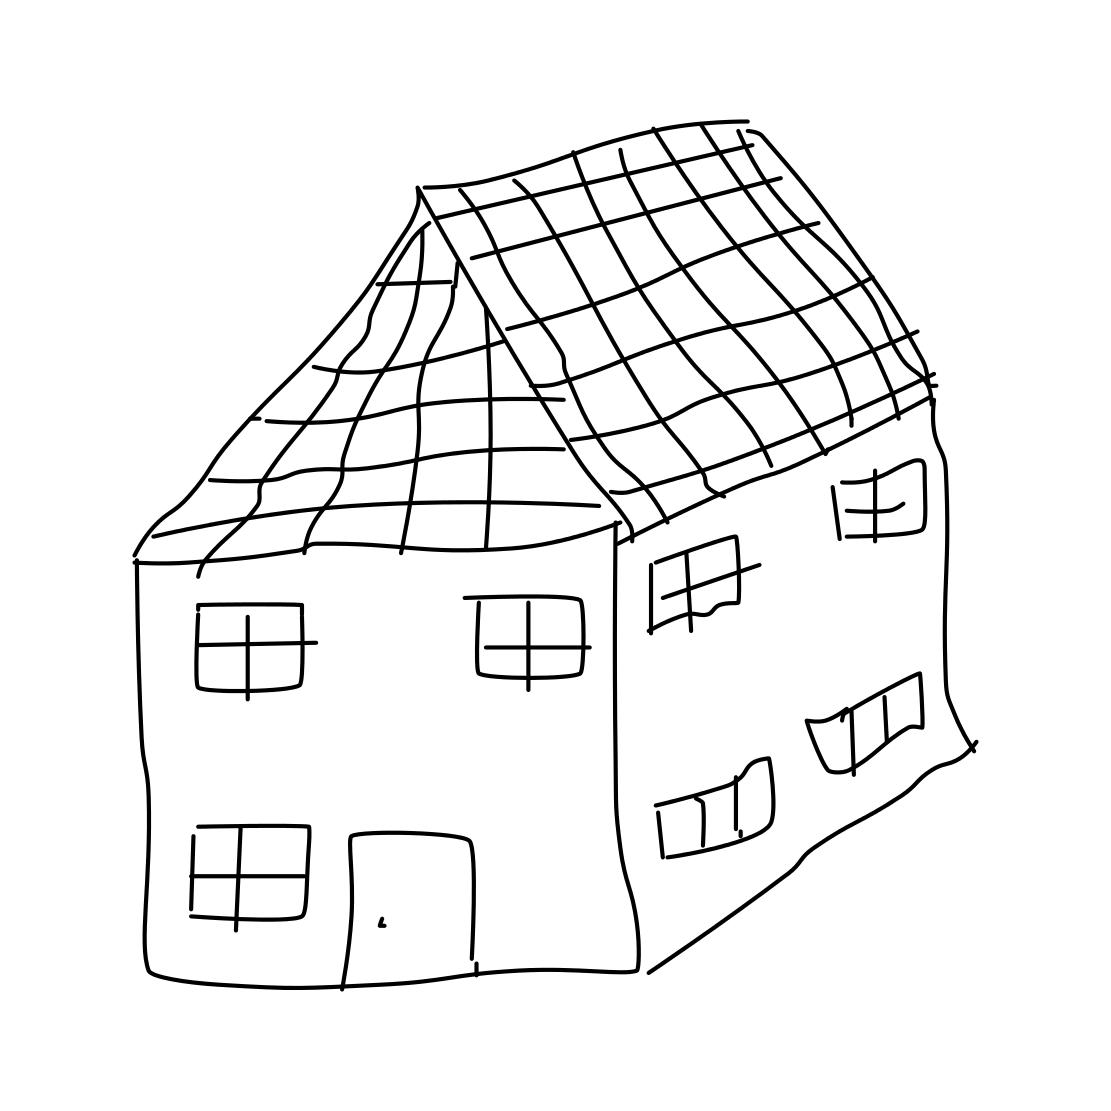door: (342, 823, 481, 992)
house: (134, 121, 975, 991)
roof: (118, 105, 953, 572)
wall: (110, 387, 1005, 1002)
window: (177, 807, 337, 933), (790, 666, 943, 778), (185, 590, 324, 710), (458, 580, 596, 693), (643, 753, 781, 860), (650, 533, 765, 635), (827, 452, 933, 546)
